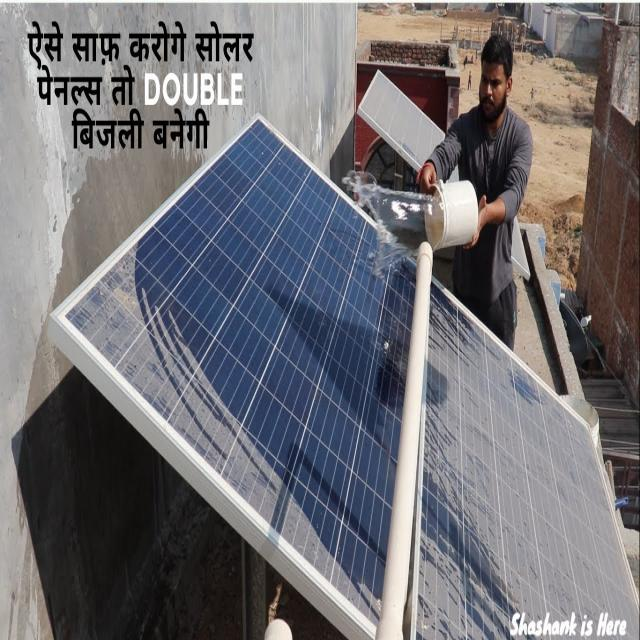faulty: (68, 121, 418, 624), (417, 287, 632, 636)
